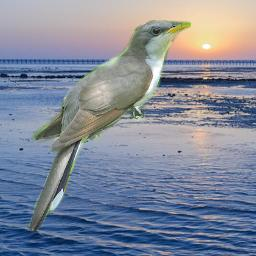Cuckoo: (28, 20, 191, 231)
